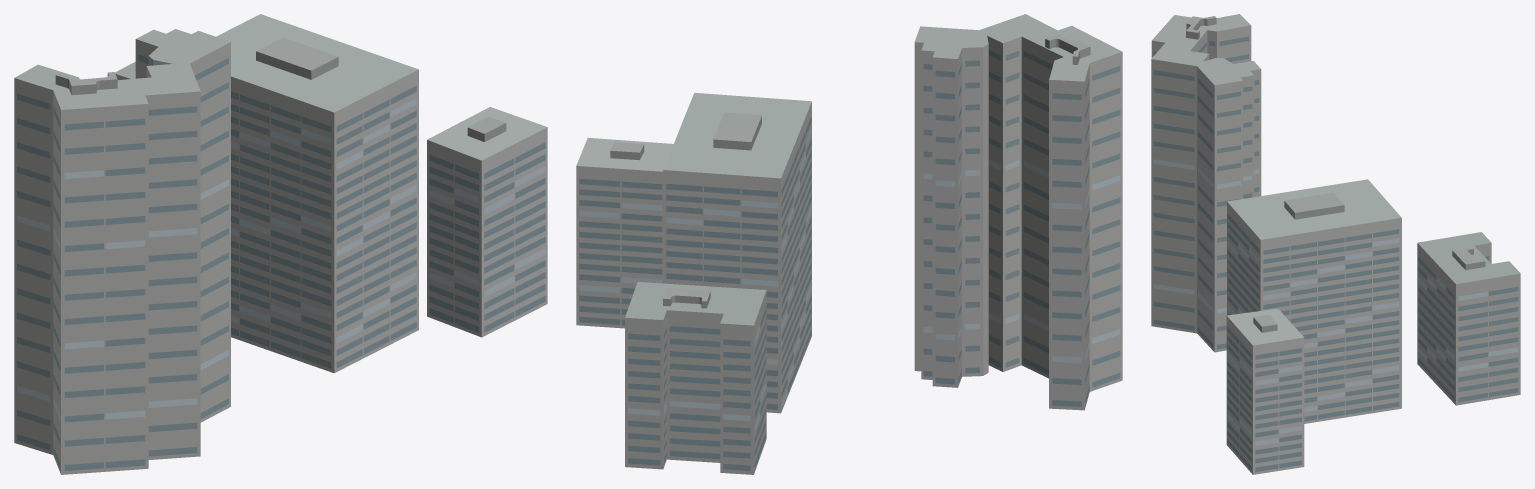
The model's file is apt-a13775102.glb.
The picture shows the model from 3 angles, left to right: view 1: azimuth 30°, elevation 25°; view 2: azimuth 150°, elevation 25°; view 3: azimuth 270°, elevation 25°; orthographic projection. The views are drawn at different scales.
Parts seen in each view (by area): view 1: apt-a13775102; view 2: apt-a13775102; view 3: apt-a13775102.
Boxes of the visible parts, x1,y1,x2,y2 form: apt-a13775102: (14,14,547,474); apt-a13775102: (576,14,1122,474); apt-a13775102: (1151,14,1520,474).
Bounding box in the file's own units: 147 × 97 × 119.
